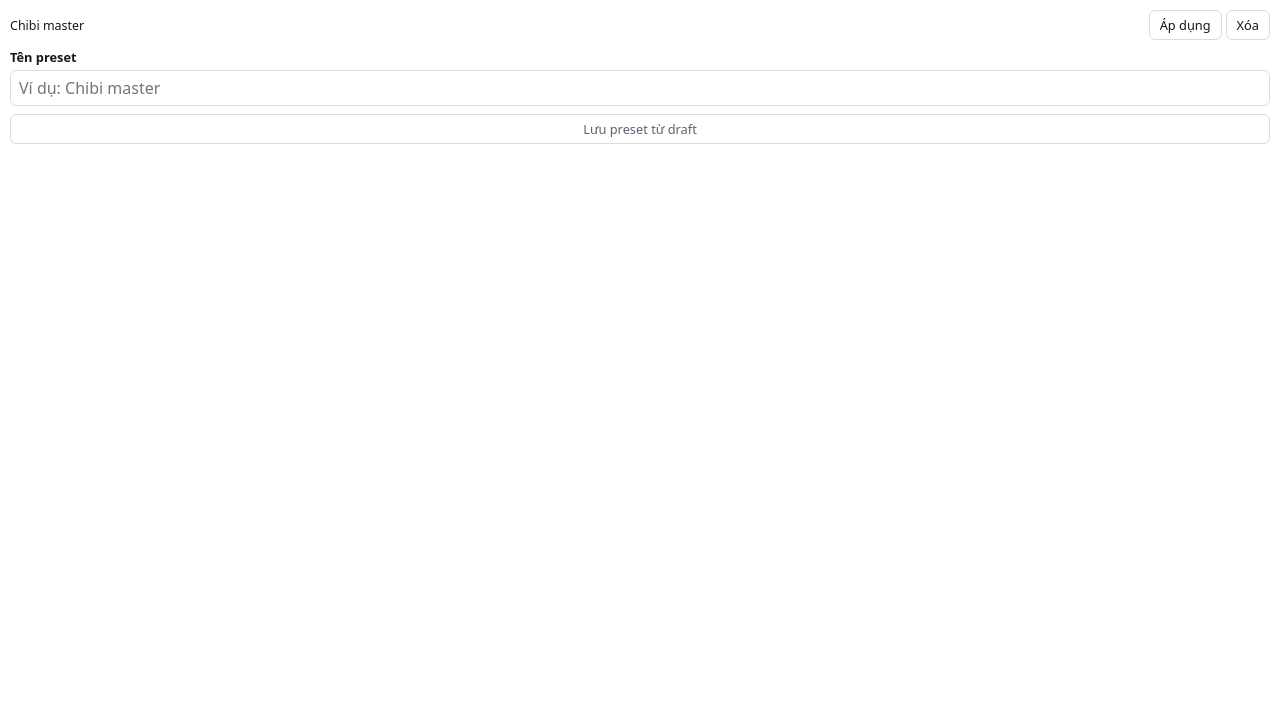
Test: applying a preset (spec section 4.4, plan decision Q5) › changes nothing when the dialog is cancelled
Click the button "Áp dụng" at (1185, 25), box [1149,10,1222,40]
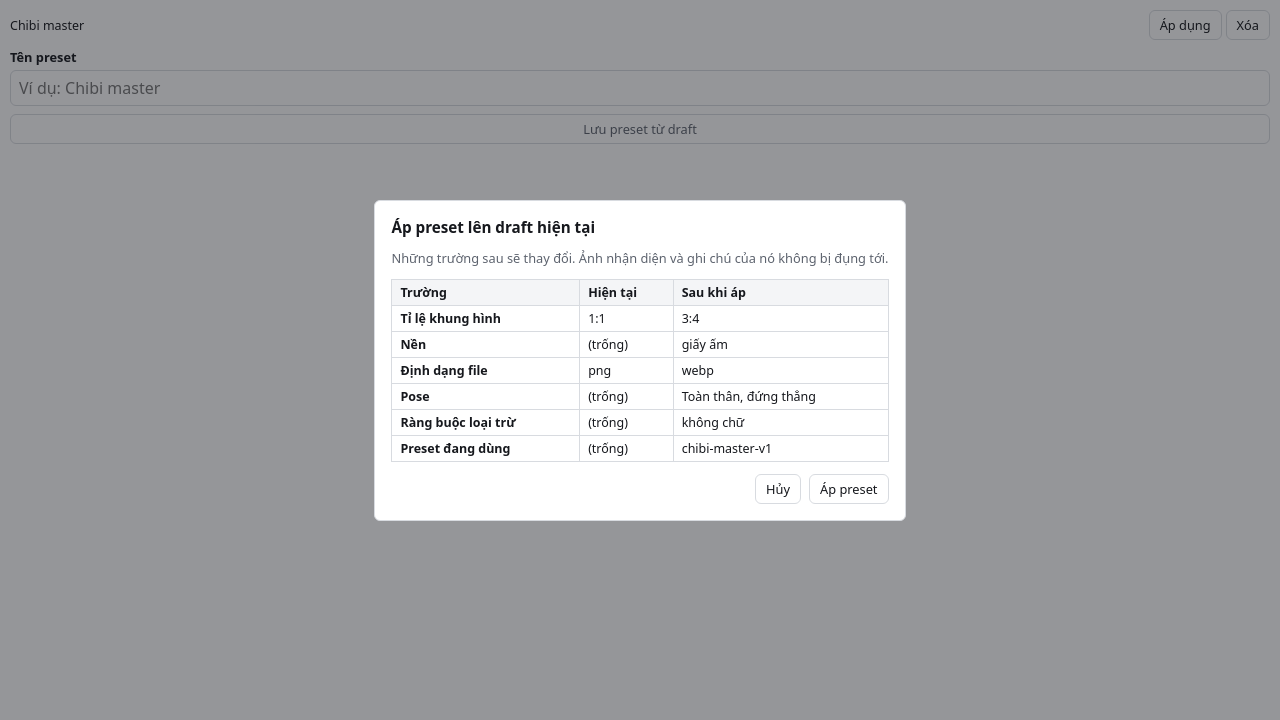
Click the button "Hủy" at (778, 488), box [755,474,801,504]
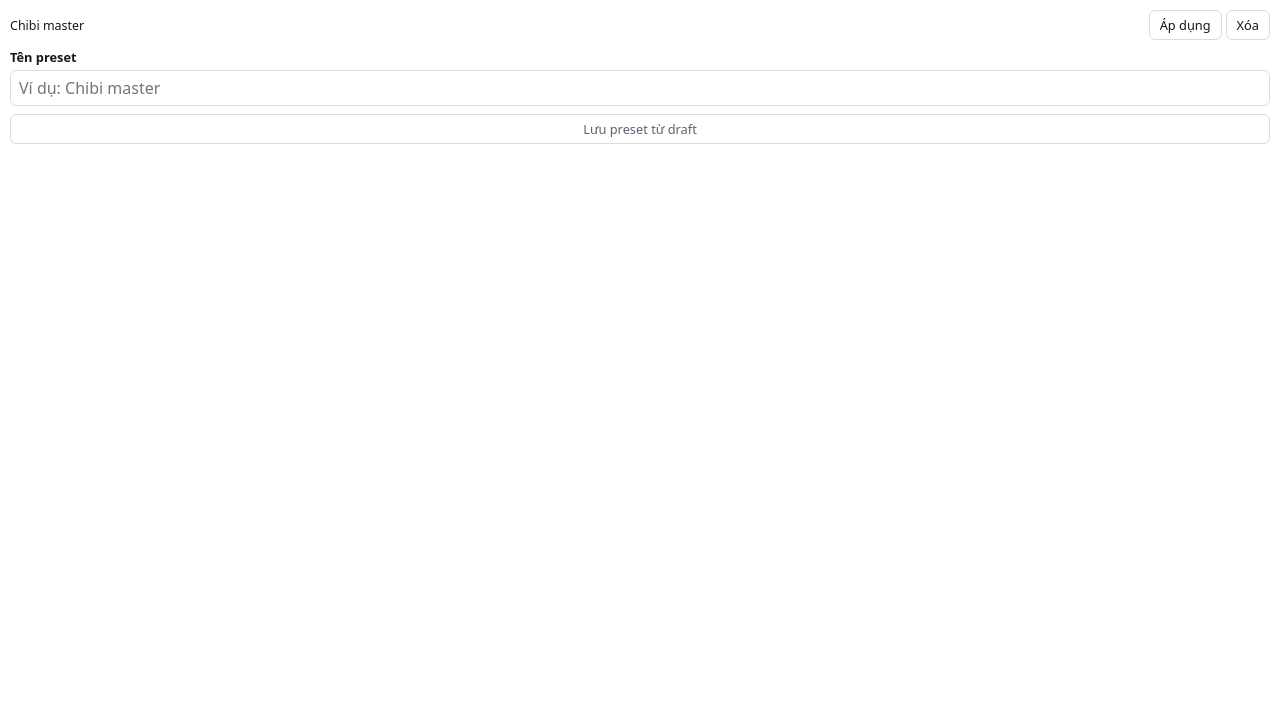
Expected: the dialog is gone
